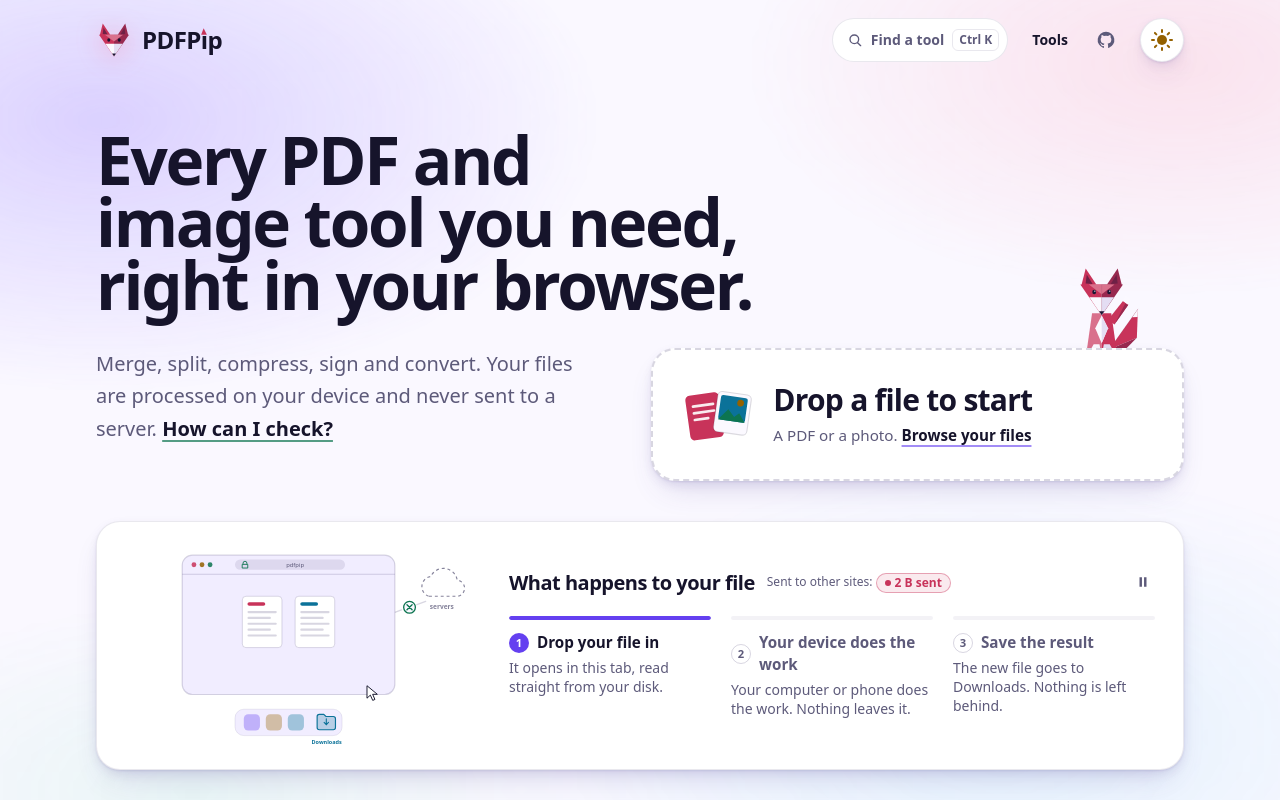
Test: command palette › ranks matches, moves with arrows and opens the tool on Enter
Type keys "{Control>}k{/Control}"
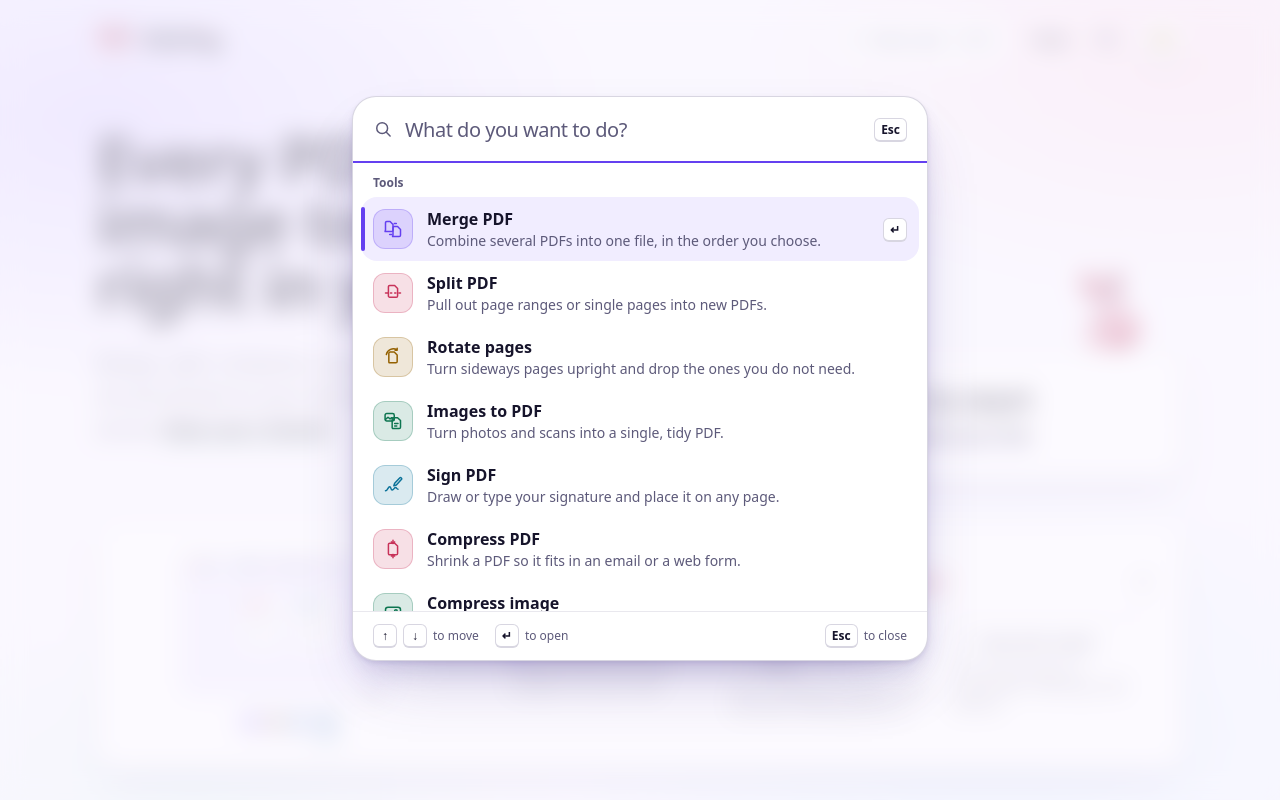
Type keys "passport"
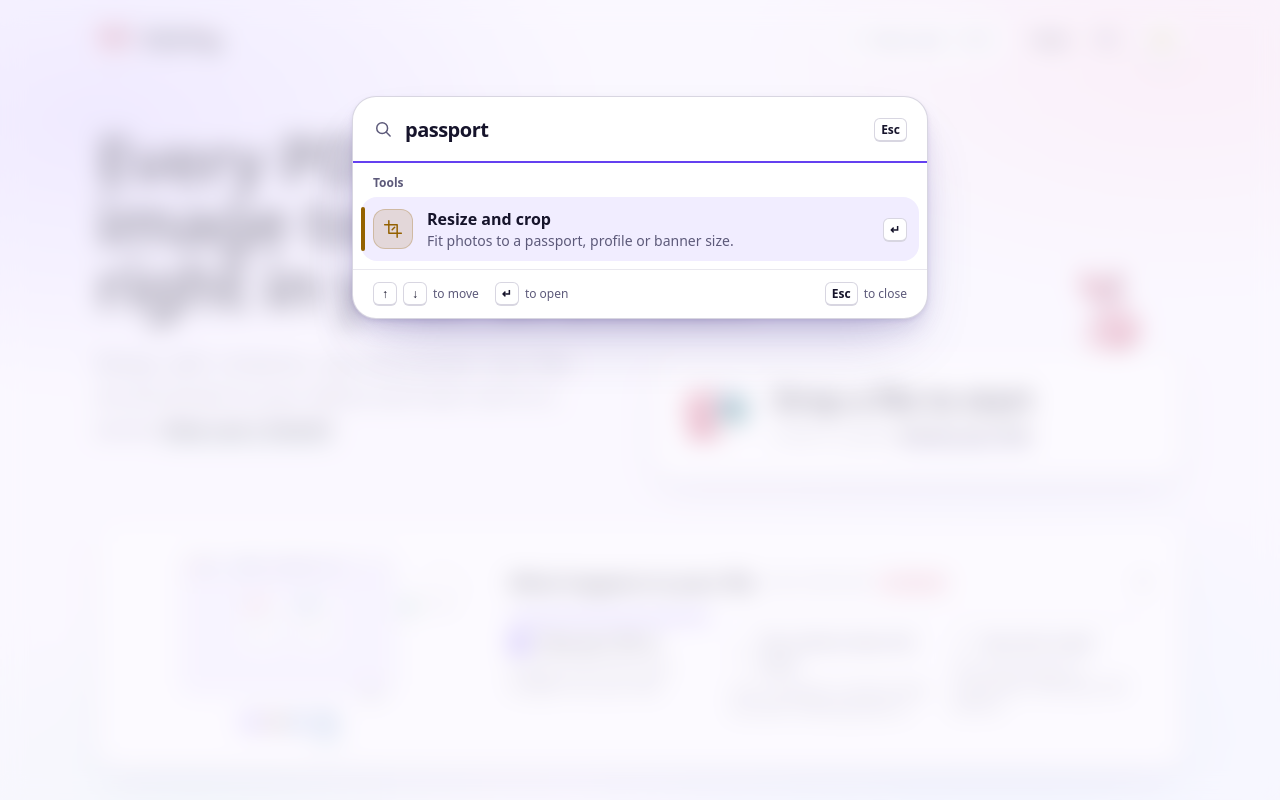
Result: the number of options is 1 at [361,197,919,261]
Result: the option shows "Resize and crop" at [361,197,919,261]
Clear the dropdown at [634, 129], box [405,97,862,161]
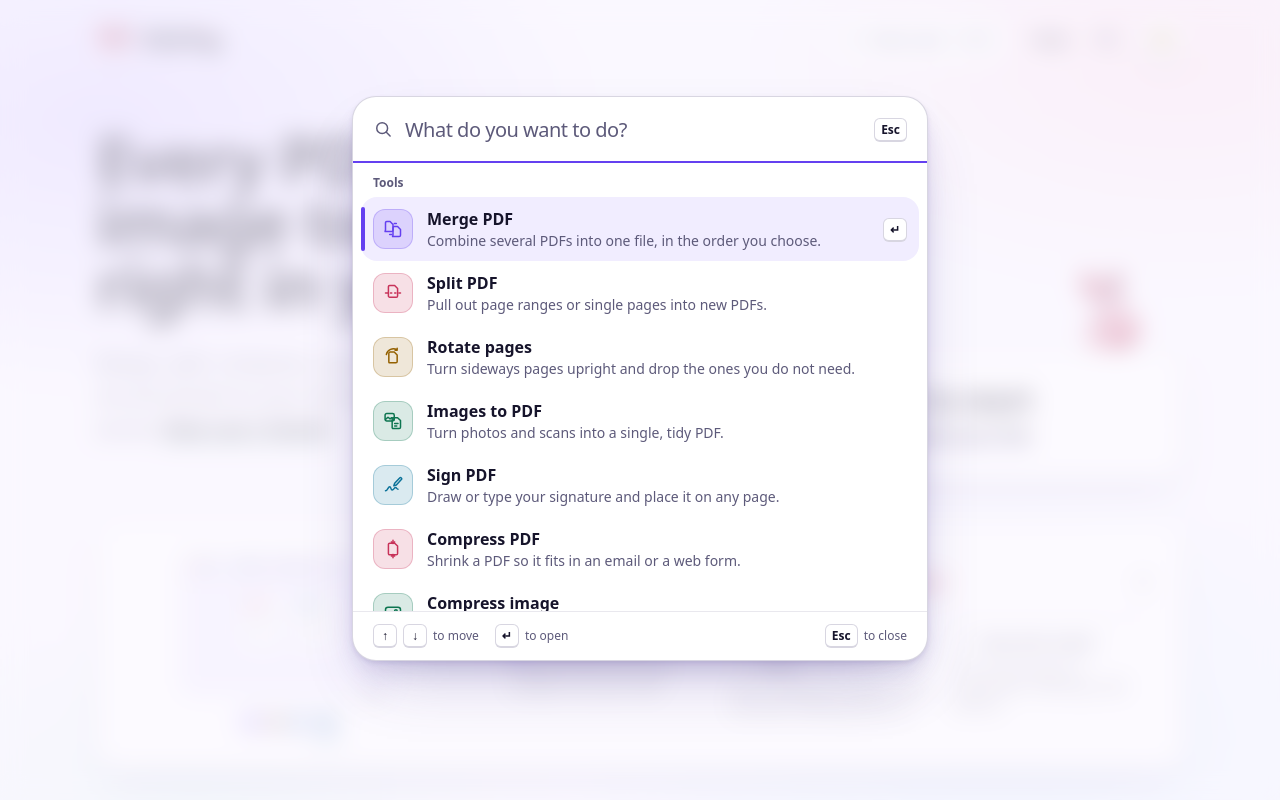
Type keys "compress"
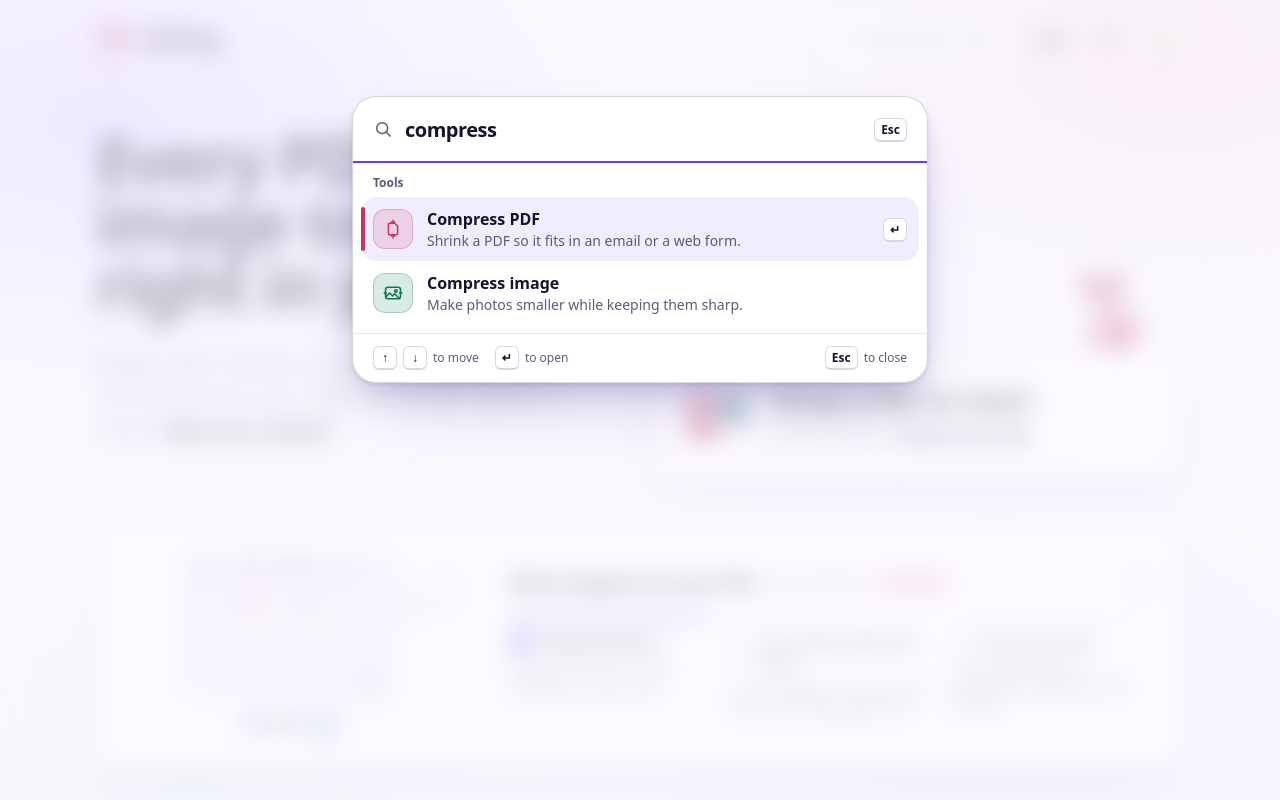
Result: the option that starts with "Compress PDF" is shown at [361,197,919,261]
Press Arrowdown
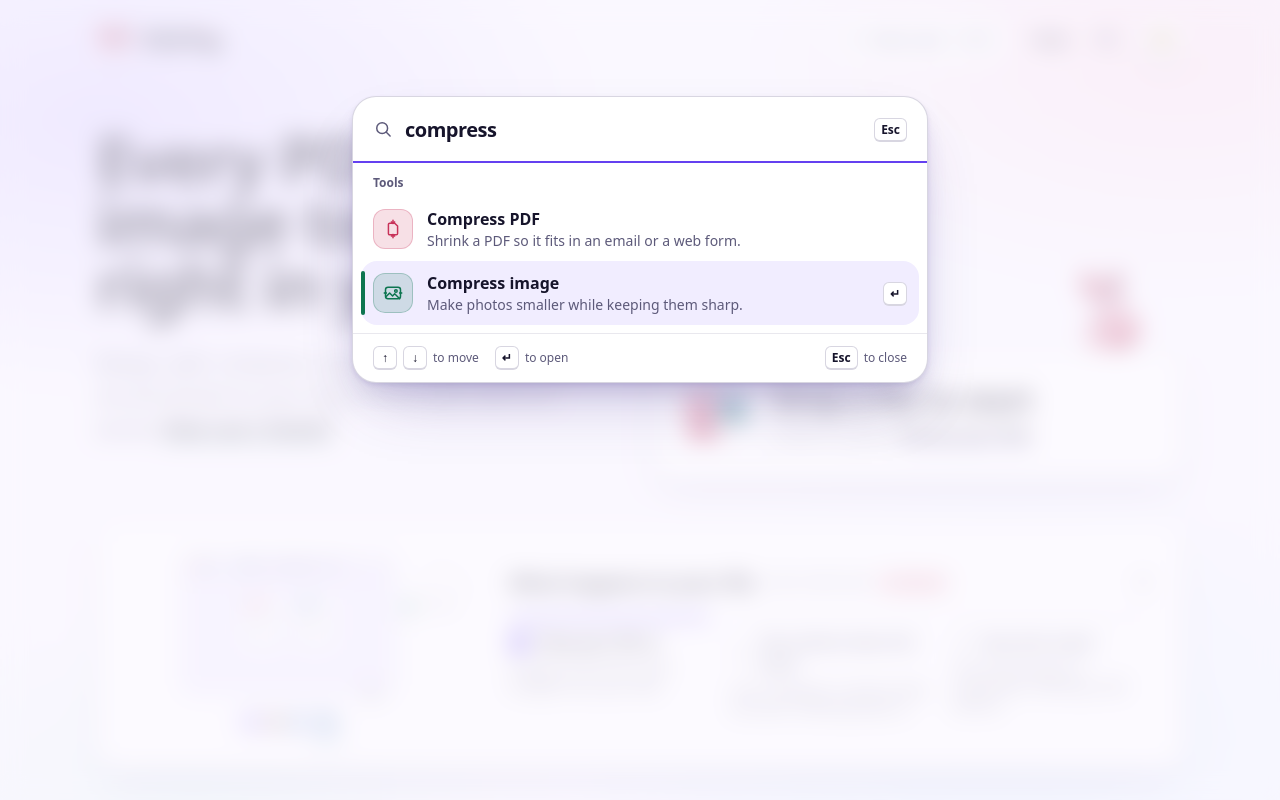
Result: the option that starts with "Compress image" is shown at [361,261,919,325]
Press Enter
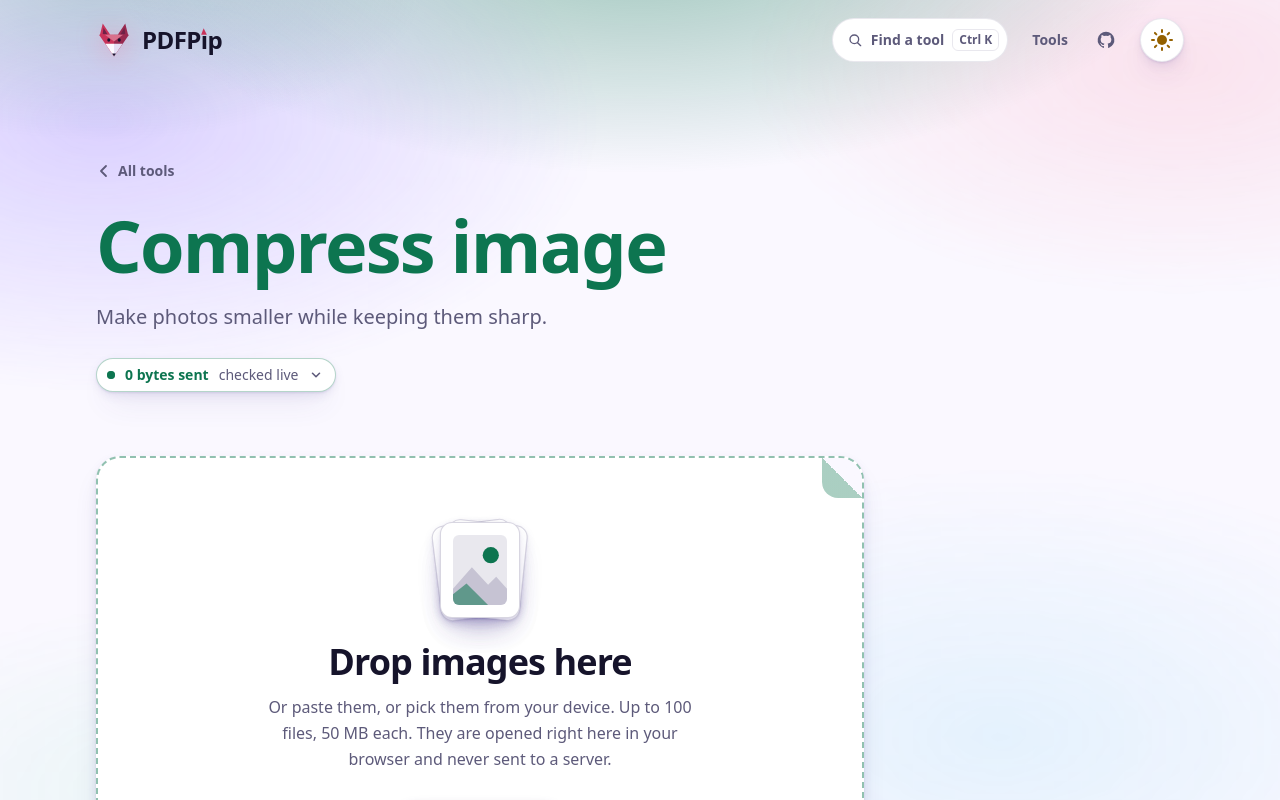
Expected: the heading "Compress image" is shown, [96,196,666,294]
Result: the dialog is gone
